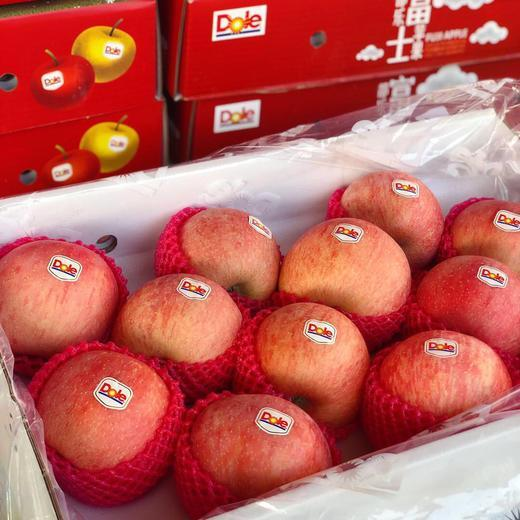apple: (29, 344, 173, 486), (177, 392, 334, 513), (356, 329, 513, 448), (279, 215, 410, 342), (251, 300, 370, 431), (1, 240, 119, 357), (115, 269, 241, 372), (161, 206, 280, 309), (332, 167, 445, 271), (416, 254, 520, 365), (447, 195, 520, 274), (28, 49, 95, 109)
